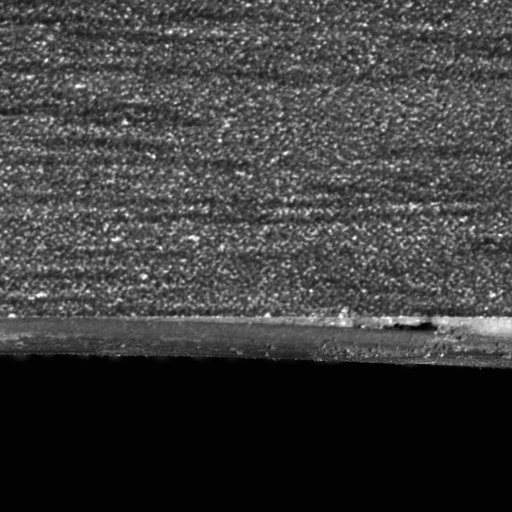kaijiao: (207, 310, 511, 368)
